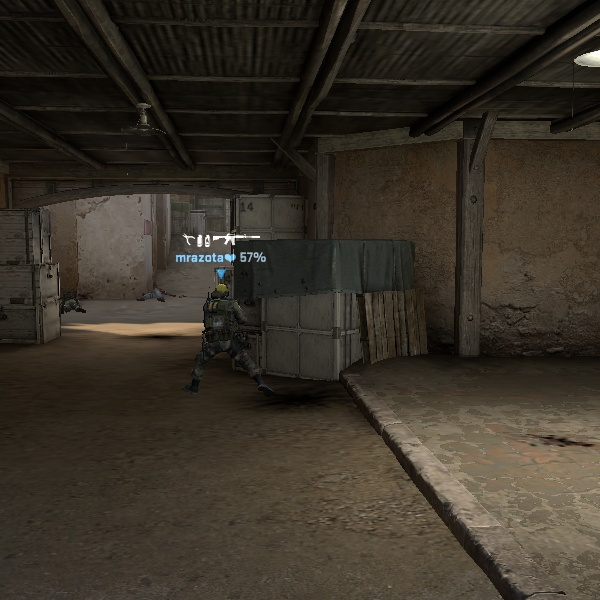ct_body: (190, 275, 256, 398)
